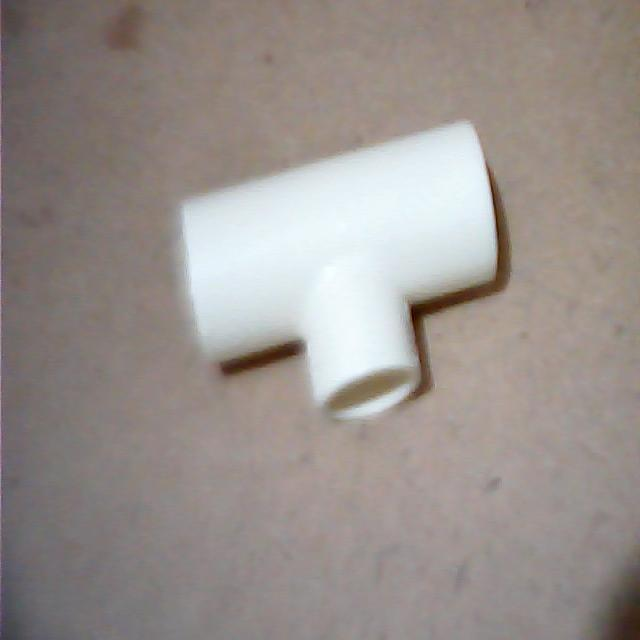T Joint: (179, 121, 510, 423)
